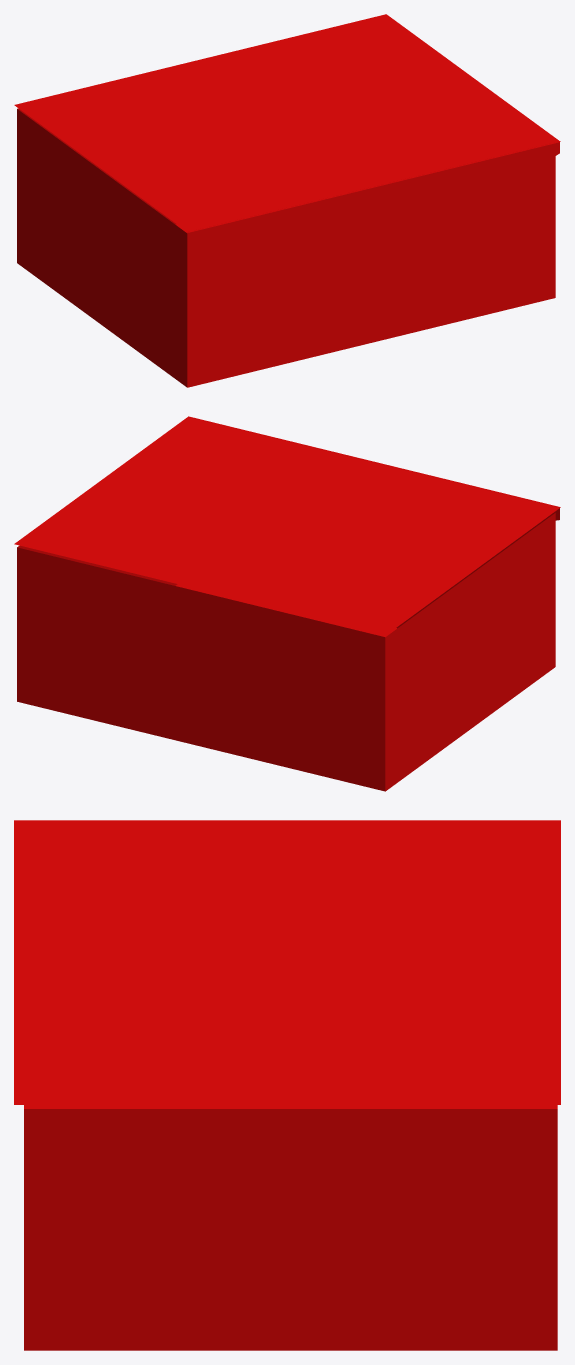
File: hex 22.glb
The picture shows the model from 3 angles, top to bottom: view 1: azimuth 30°, elevation 25°; view 2: azimuth 150°, elevation 25°; view 3: azimuth 270°, elevation 25°; orthographic projection. The views are drawn at different scales.
Parts seen in each view (by area): view 1: Lid, Base; view 2: Base, Lid; view 3: Lid, Base.
Part boxes in pixels (x1=…): Lid: x1=14, y1=14, x2=560, y2=264; Base: x1=17, y1=108, x2=555, y2=387; Base: x1=17, y1=512, x2=555, y2=791; Lid: x1=14, y1=416, x2=560, y2=634; Lid: x1=14, y1=820, x2=560, y2=1104; Base: x1=24, y1=1105, x2=557, y2=1350.
Size of the model in its own units: 202 by 81.84 by 164.
